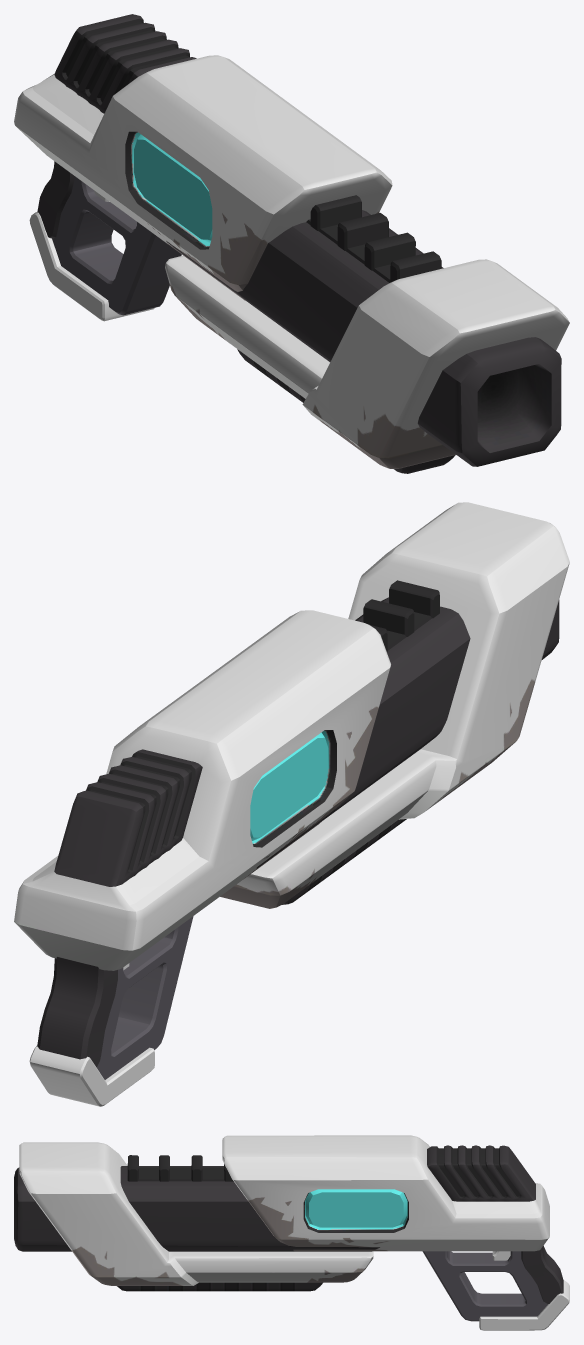
The model's file is lazer shotgun.glb.
The picture shows the model from 3 angles, top to bottom: view 1: azimuth 30°, elevation 25°; view 2: azimuth 150°, elevation 25°; view 3: azimuth 270°, elevation 25°; orthographic projection. The views are drawn at different scales.
Visible parts, largest first — view 1: Quest_SciFi_Shotgun_Main, Quest_SciFi_Shotgun_Reload, Quest_SciFi_Shotgun_Grip; view 2: Quest_SciFi_Shotgun_Main, Quest_SciFi_Shotgun_Reload; view 3: Quest_SciFi_Shotgun_Main, Quest_SciFi_Shotgun_Reload, Quest_SciFi_Shotgun_Grip.
Part boxes in pixels (x1,y1,x2,y2): Quest_SciFi_Shotgun_Main: (29, 161, 569, 468); Quest_SciFi_Shotgun_Reload: (14, 14, 392, 300); Quest_SciFi_Shotgun_Grip: (237, 349, 455, 473); Quest_SciFi_Shotgun_Main: (29, 502, 569, 1106); Quest_SciFi_Shotgun_Reload: (14, 610, 390, 970); Quest_SciFi_Shotgun_Main: (14, 1142, 569, 1330); Quest_SciFi_Shotgun_Reload: (222, 1135, 549, 1251); Quest_SciFi_Shotgun_Grip: (117, 1282, 322, 1291).
Bounding box in the file's own units: 0.119 × 0.2296 × 0.6488.
1 material, 1 textured.
